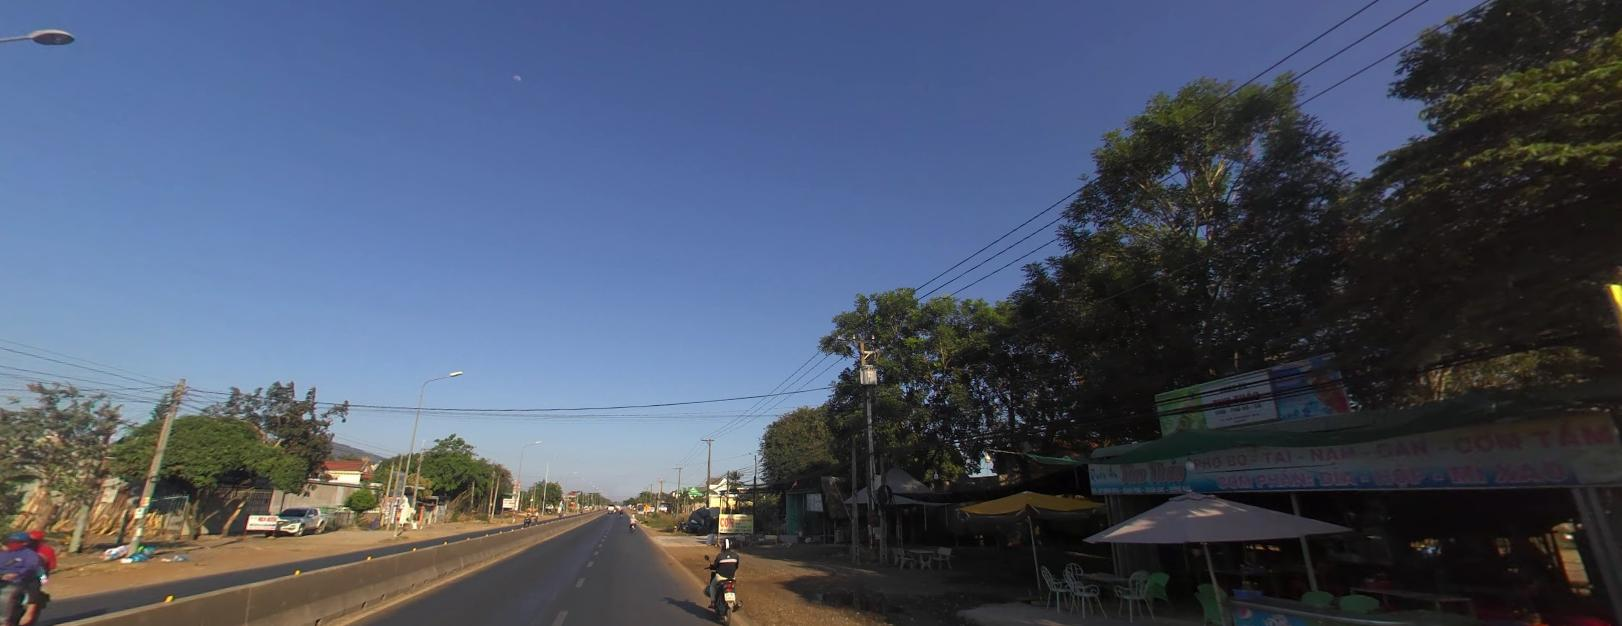Nguy hiem: (642, 502, 650, 509)
